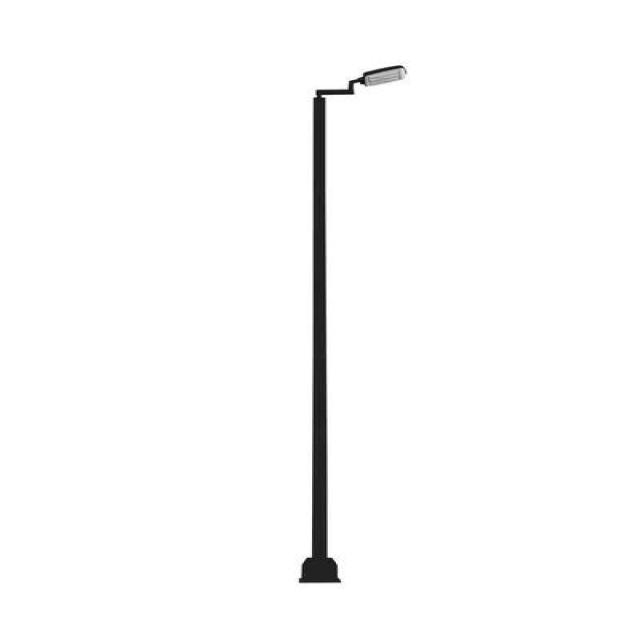Pole: (299, 65, 404, 584)
